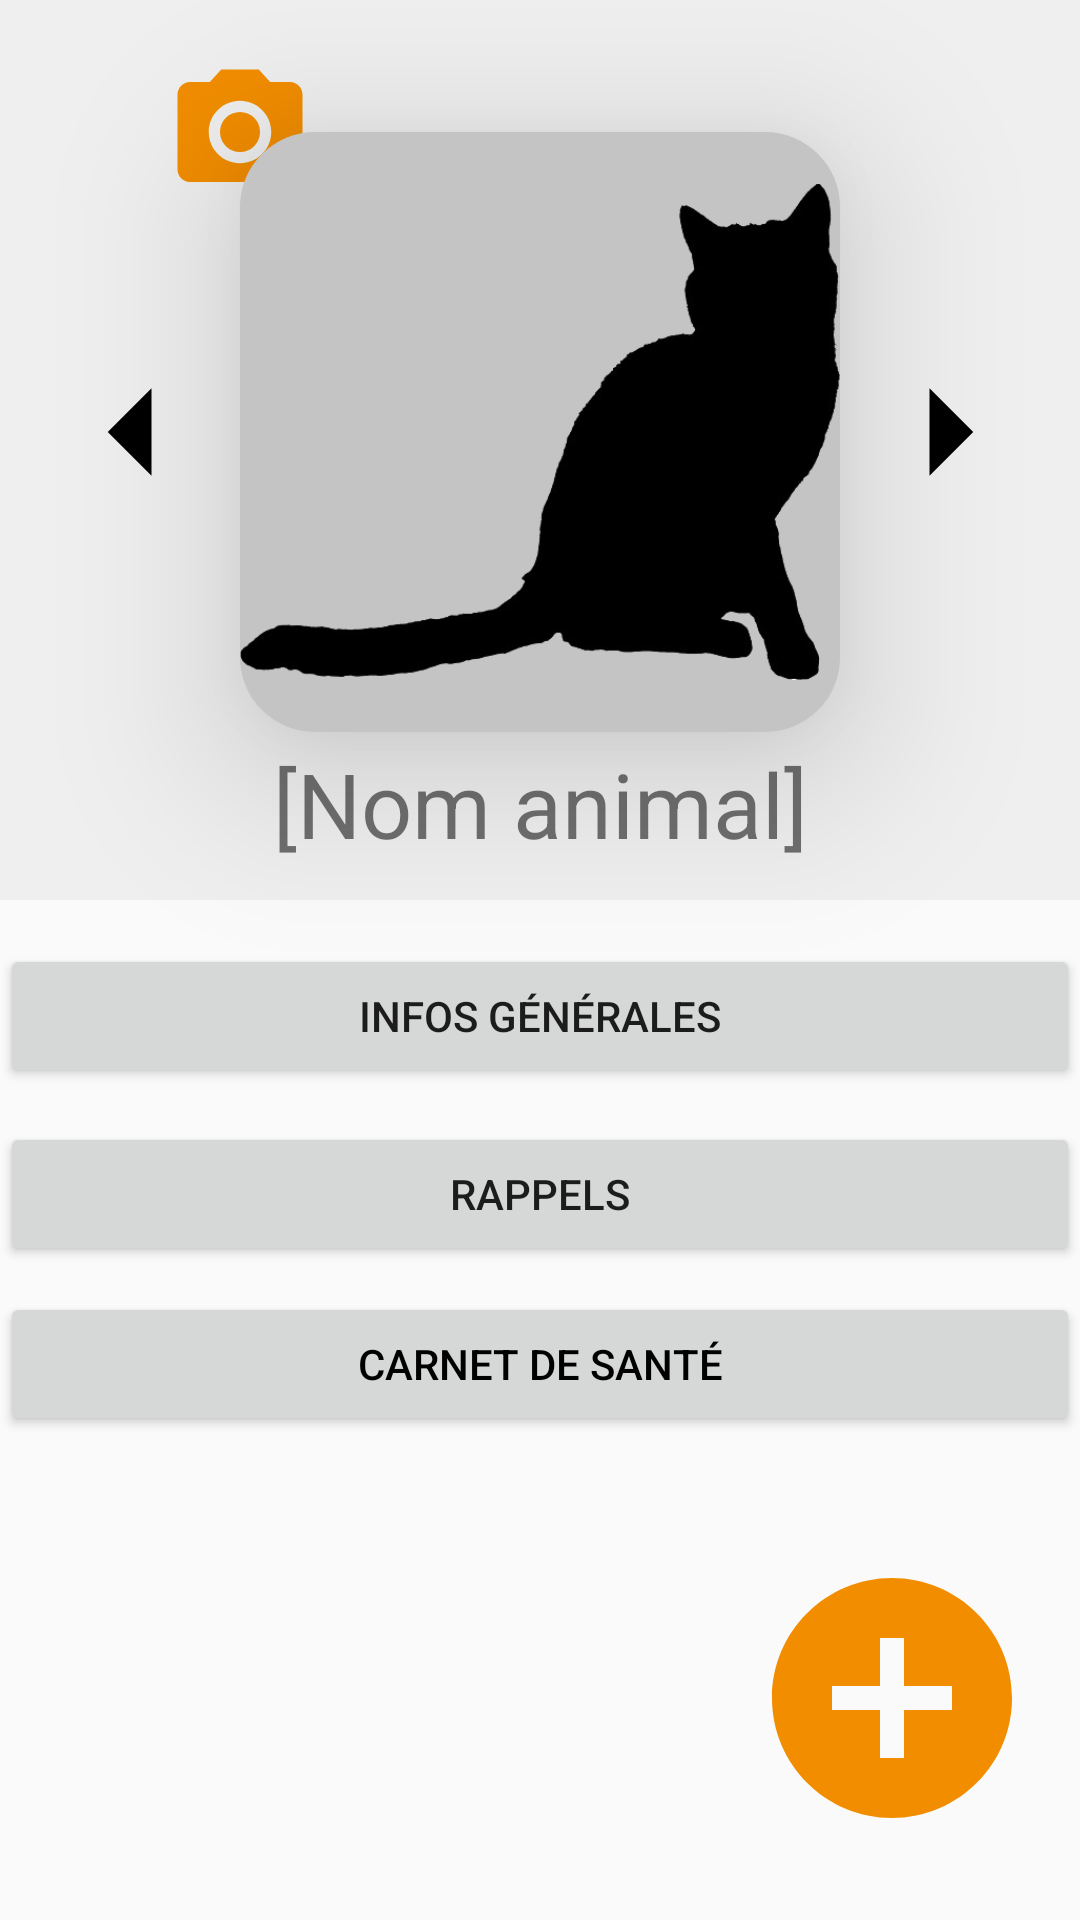

Screen size 1080x1920. Icon name, then its box in pixels as (x1, y1, x2, y2):
arrow left: (108, 388, 152, 476)
arrow right: (929, 388, 973, 476)
plus: (772, 1578, 1012, 1818)
